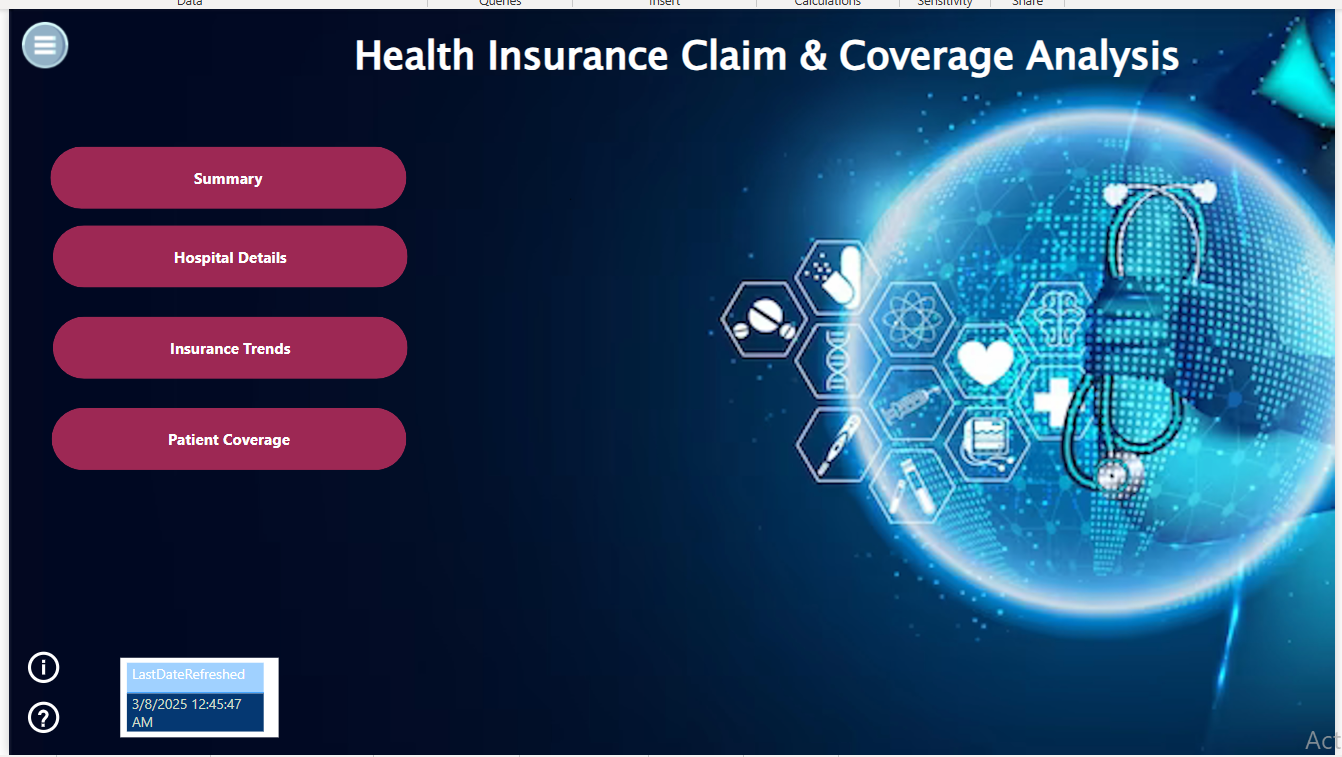

The dashboard page shown, as its layout file describes it:
{"tool":"powerbi","page":{"name":"Home","canvas":[1280,720],"ordinal":0},"visuals":[{"type":"tableEx","title":"Refresh","fields":{"Values":["LastDateRefreshed.LastDateRefreshed"]},"box":[107.3,625.9,153.2,77.2],"z":0},{"type":"actionButton","title":"Link","box":[14,663.9,40.3,40.3],"z":0,"group":"g1"},{"type":"actionButton","title":"Menu","box":[8.8,8.8,64.2,52.8],"z":1000,"group":"g1"},{"type":"group","id":"g1","title":"Menu Bar","box":[8.8,8.8,64.2,695.3],"z":2000},{"type":"actionButton","title":"Information","box":[13.8,615.1,40.3,40.3],"z":2000,"group":"g1"},{"type":"actionButton","title":"Summary","box":[39.8,132.7,343.7,60.3],"z":3000},{"type":"actionButton","title":"Summary","box":[42.2,296.7,342.5,60.3],"z":4000},{"type":"actionButton","title":"Summary","box":[42.2,208.6,342.5,60.3],"z":5000},{"type":"textbox","box":[328,12.1,809.2,97.7],"z":6000},{"type":"actionButton","title":"Summary","box":[41,384.7,342.5,60.3],"z":7000}]}

Visuals, with their boxes on the page's 1280x720 design canvas (x1, y1, x2, y2). These are canvas units, not pixel positions in the 1342x757 screenshot, which may show the page scaled, cropped or inside an application window:
"Refresh" tableEx: (107,626,260,703)
"Link" actionButton: (14,664,54,704)
"Menu" actionButton: (9,9,73,62)
"Menu Bar" group: (9,9,73,704)
"Information" actionButton: (14,615,54,655)
"Summary" actionButton: (40,133,384,193)
"Summary" actionButton: (42,297,385,357)
"Summary" actionButton: (42,209,385,269)
textbox: (328,12,1137,110)
"Summary" actionButton: (41,385,384,445)
